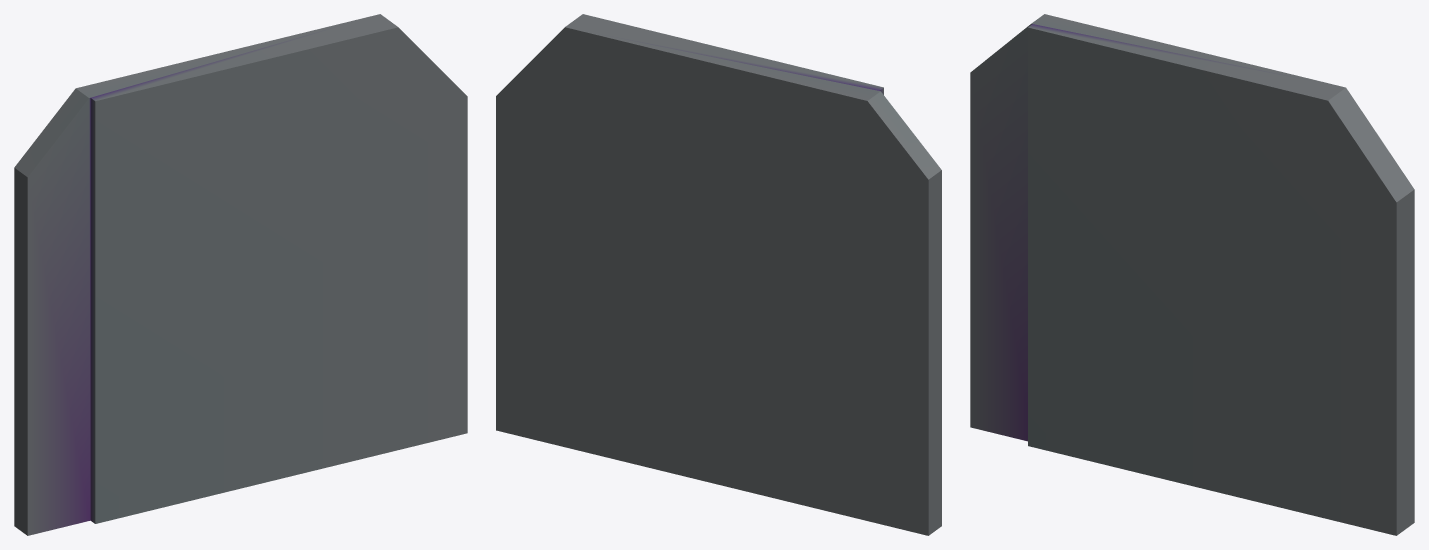
The picture shows the model from 3 angles, left to right: view 1: azimuth 30°, elevation 25°; view 2: azimuth 150°, elevation 25°; view 3: azimuth 330°, elevation 25°; orthographic projection.
Parts seen in each view (by area): view 1: case; view 2: case; view 3: case.
Part boxes in pixels (x1=…): case: x1=14, y1=14, x2=467, y2=535; case: x1=496, y1=14, x2=941, y2=535; case: x1=970, y1=14, x2=1414, y2=535.
Size of the model in its own units: 0.09 by 0.0836 by 0.0065.
